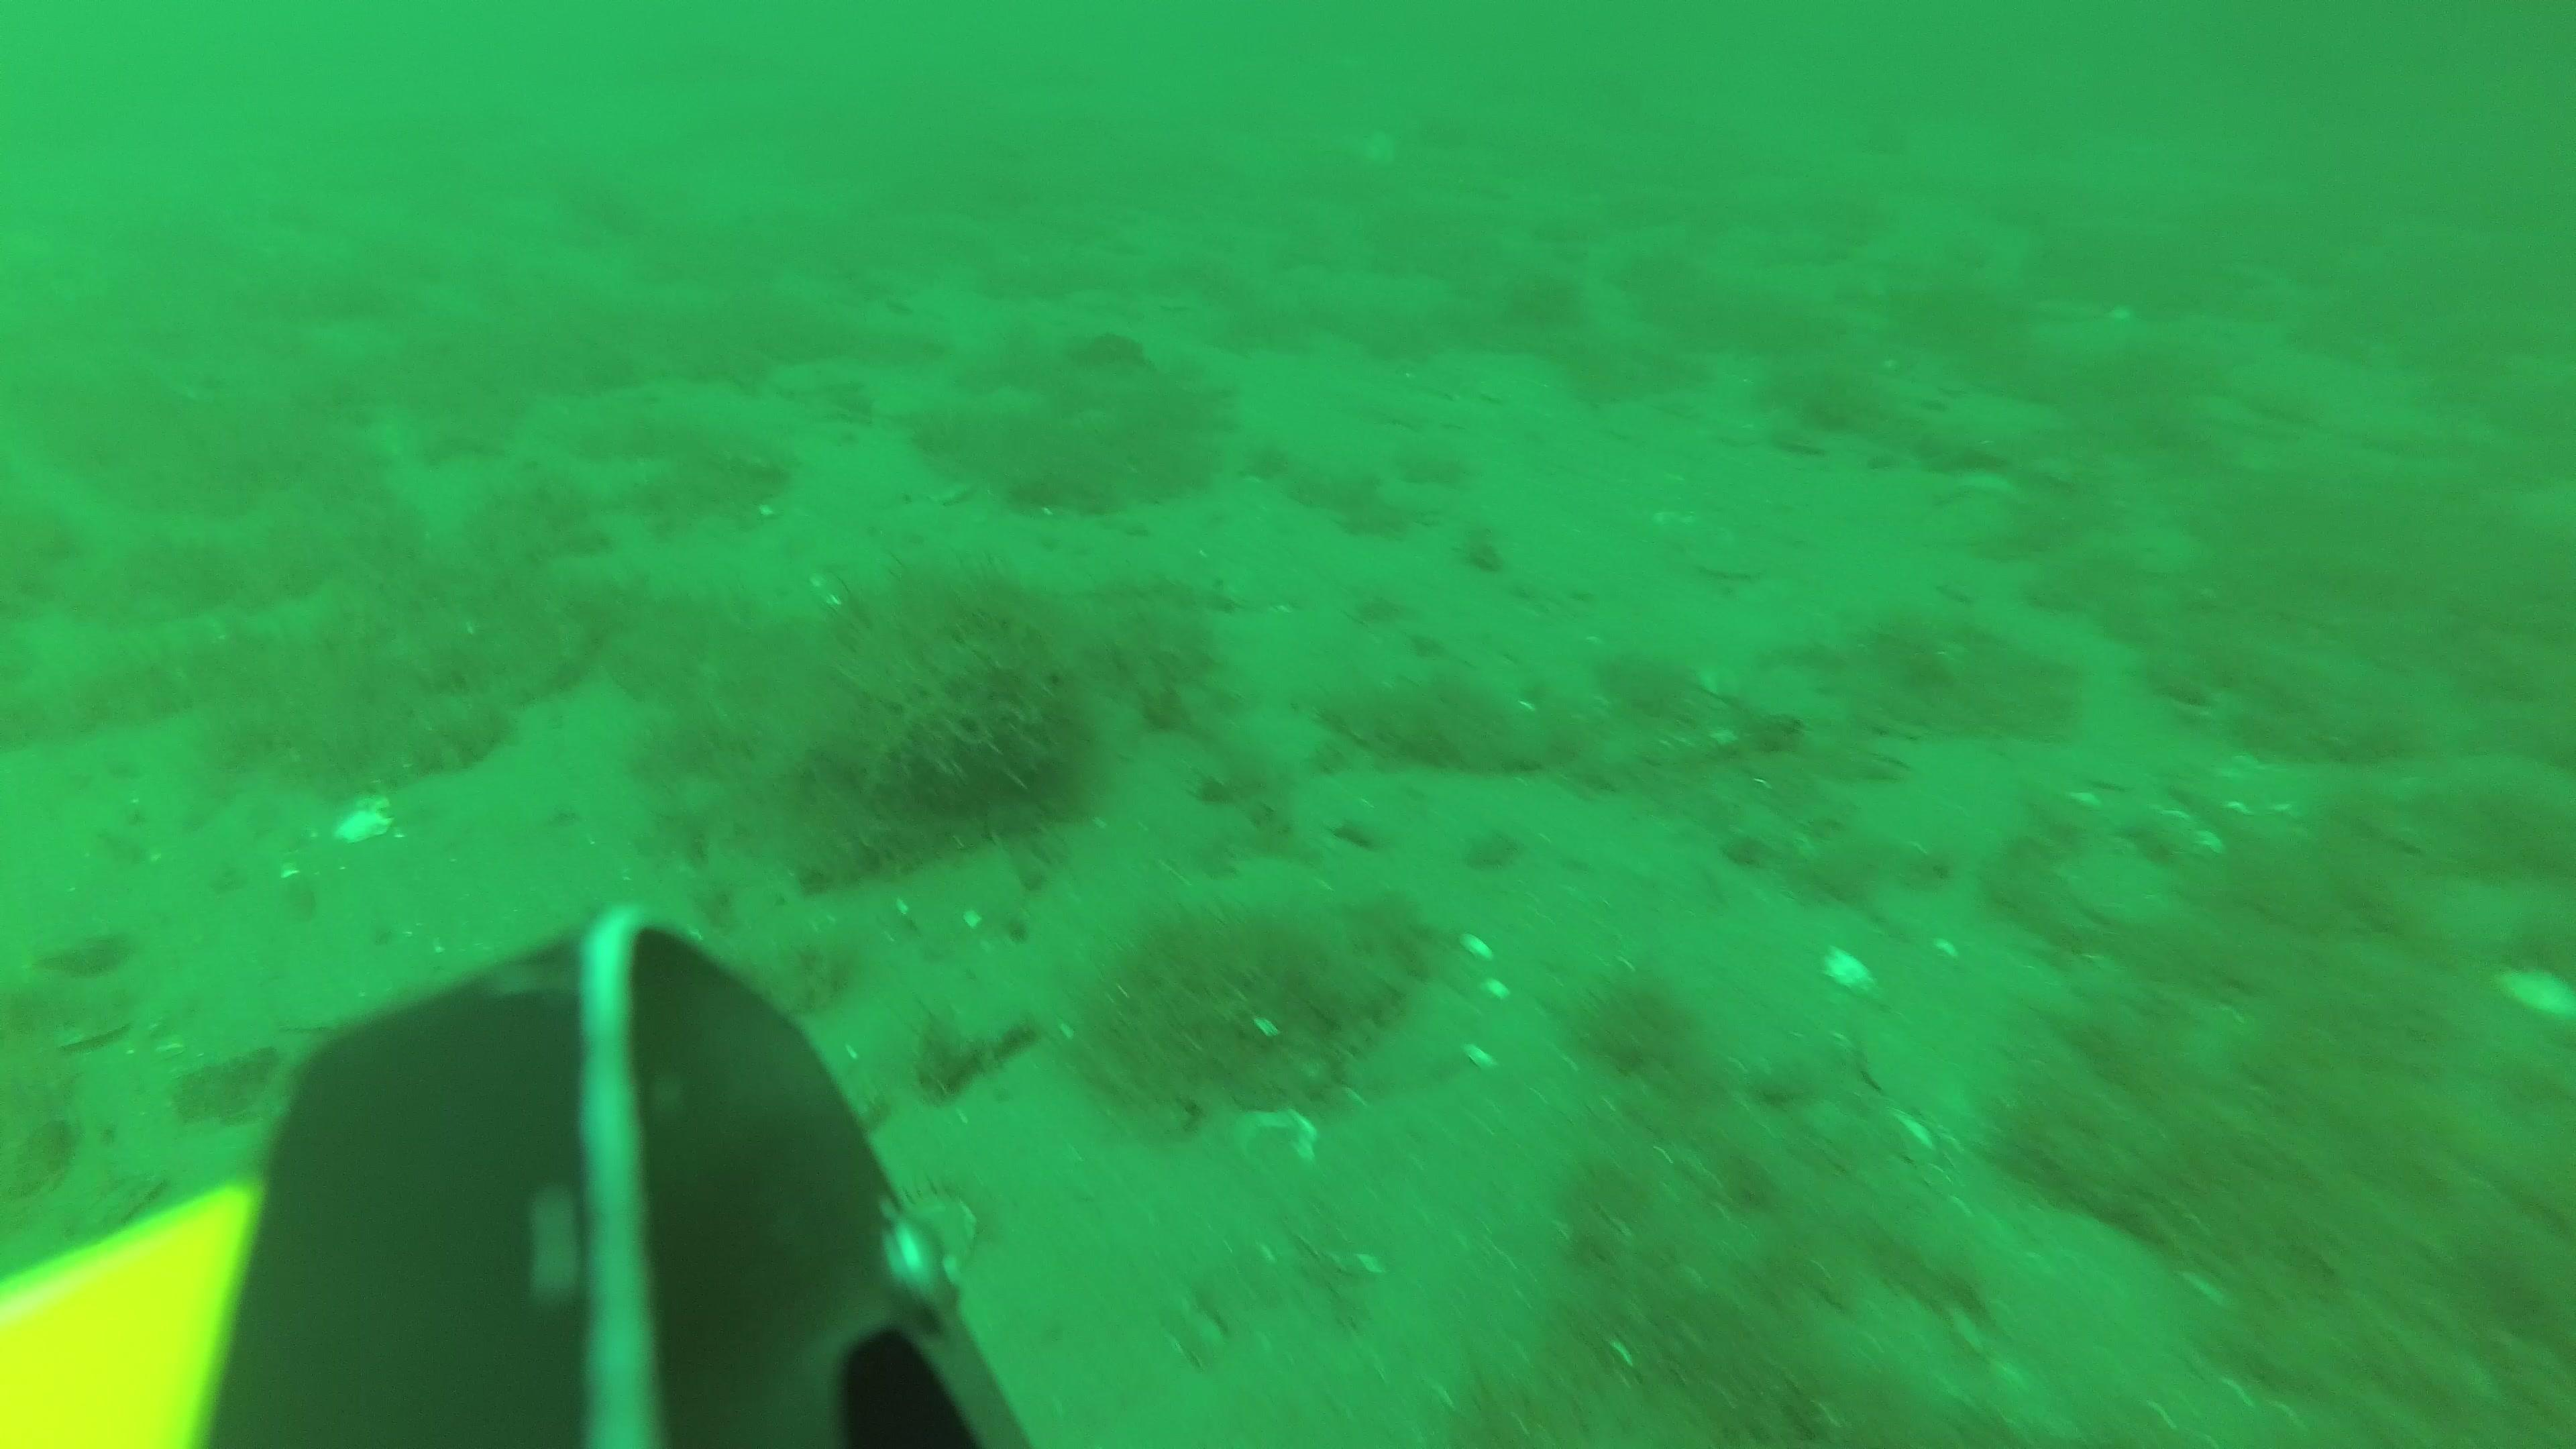scallop: (902, 839, 1021, 948), (881, 1196, 982, 1297), (1237, 1104, 1318, 1175)
